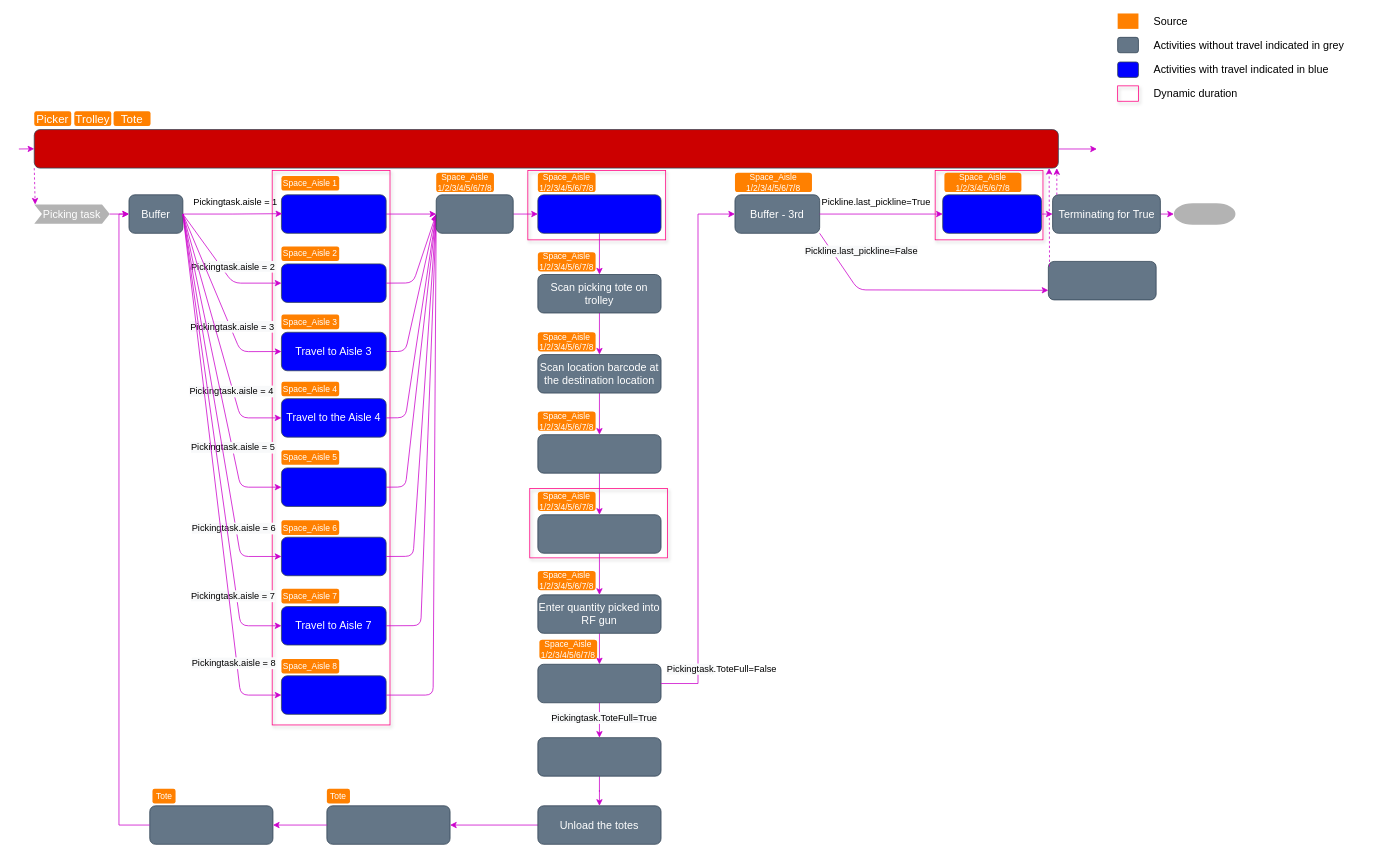
Image size: 1398x858. Some labels were removed from this diagram. The centre of each missing label's shape, as x and y in pixels:
Buffer - 2nd: (x=474, y=213)
Click confirm on RF gun: (x=599, y=683)
Move totes to the drop-off point: (x=599, y=756)
Picking - Quota Constrained Activity: (x=545, y=148)
Pickline: (x=1204, y=213)
Prepare empty totes - 2nd: (x=388, y=824)
Put items into tote: (x=599, y=533)
Scan SKU ID to be picked: (x=599, y=453)
Scan the next picking task via RF gun - 2nd: (x=211, y=824)
Terminating for False: (x=1102, y=280)
Travel to Aisle 1: (x=333, y=213)
Travel to Aisle 2: (x=333, y=282)
Travel to Aisle 6: (x=333, y=556)
Travel to Aisle 8: (x=333, y=694)
Travel to the Aisle 5: (x=333, y=486)
Travel to the exit of the aisle where the last item is located: (x=991, y=213)
Travel to the location: (x=599, y=213)
